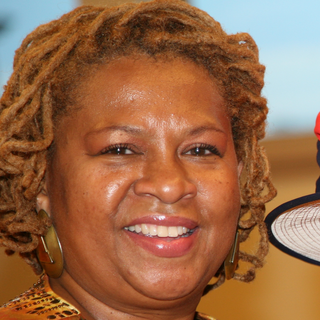eye: (178, 139, 224, 164), (96, 139, 143, 163)
